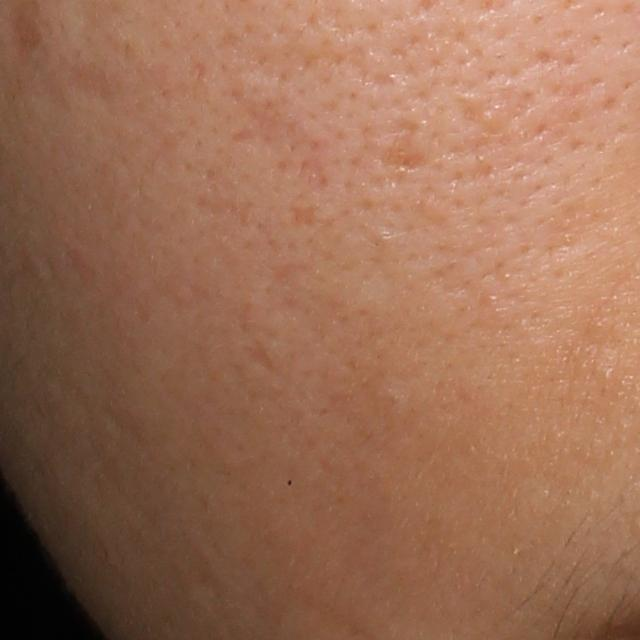atrophic_scar: (229, 93, 329, 155), (191, 172, 256, 227), (62, 59, 128, 111), (236, 44, 302, 83), (380, 140, 436, 175), (285, 200, 342, 231), (296, 156, 334, 195)
